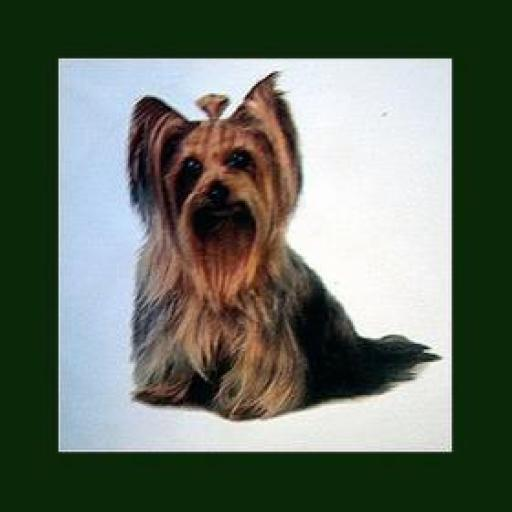dog_face: (129, 83, 293, 237)
